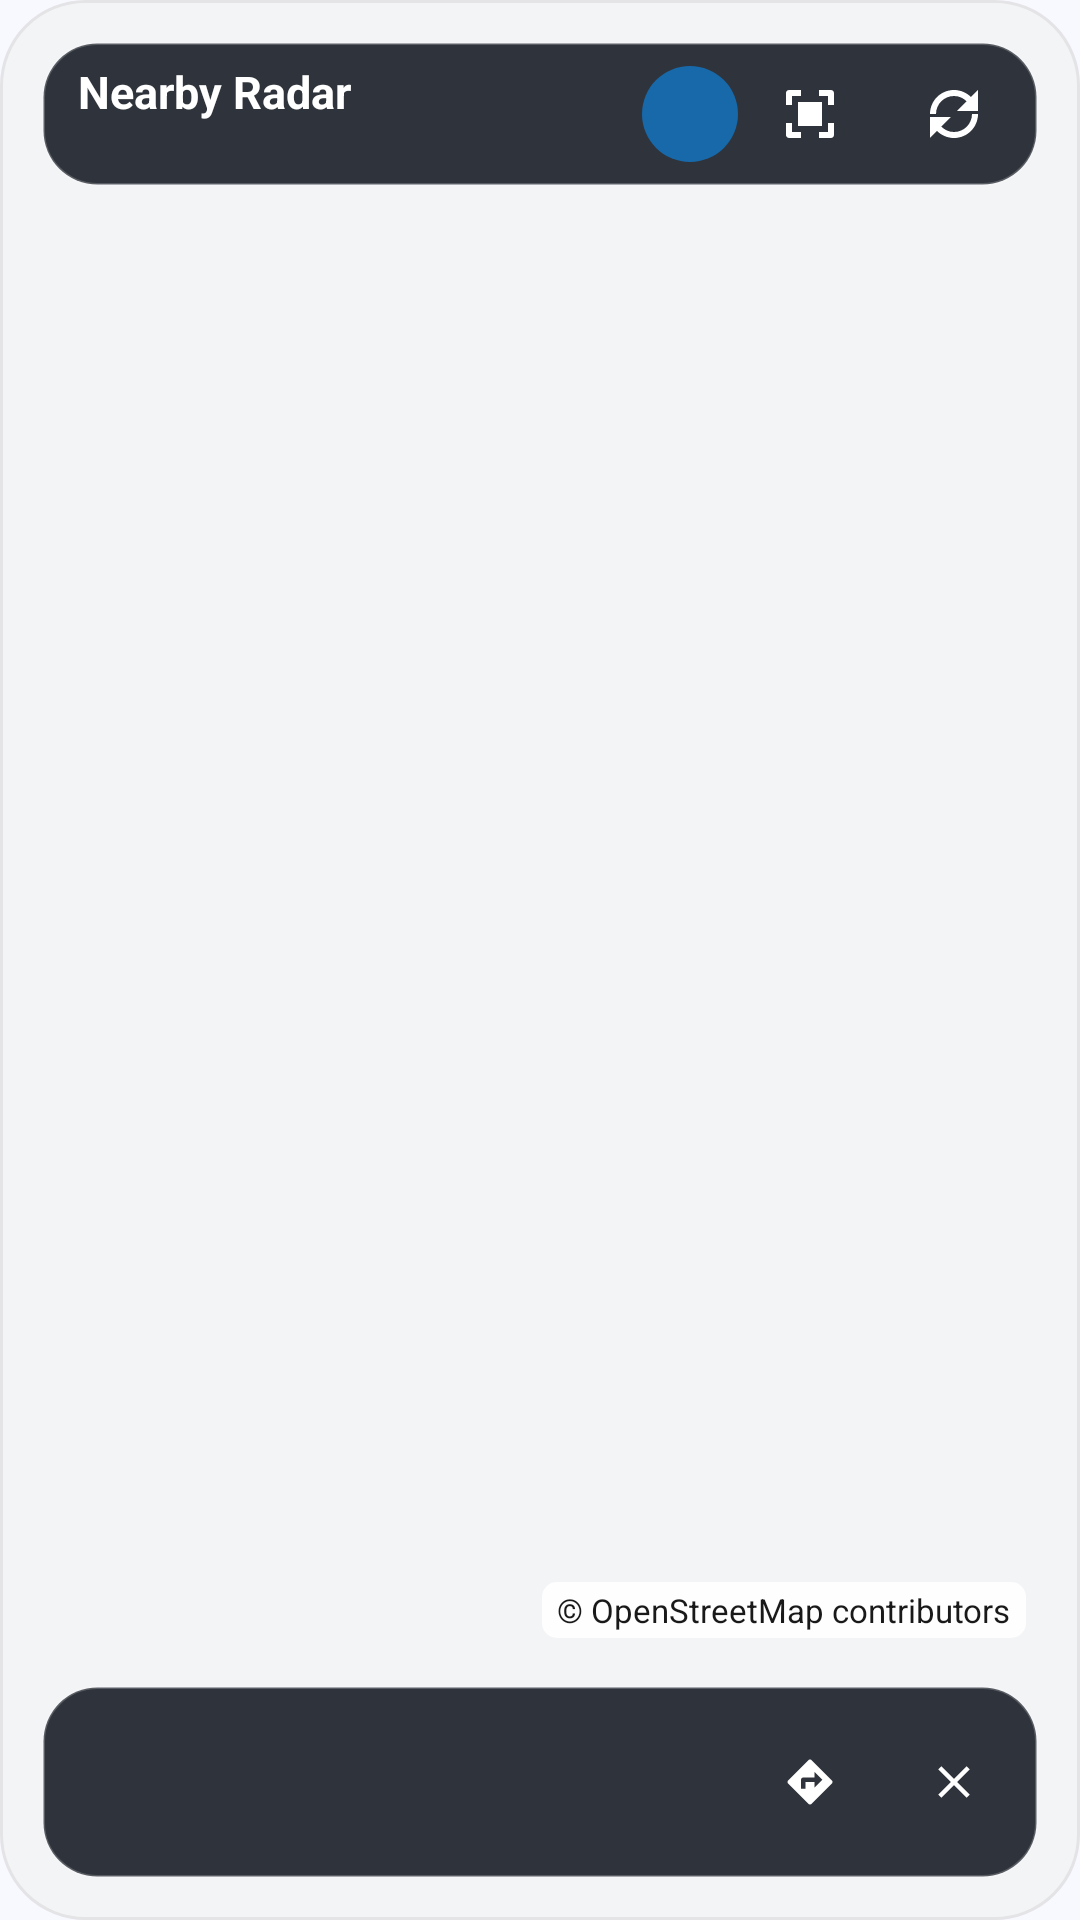

Where icons sit on this 1080px x 1920px app screen, as (x1, y1, x2, y2):
Dismiss alert: (938, 1766, 970, 1798)
Navigate to alert: (787, 1759, 833, 1805)
Refresh alerts: (882, 43, 1026, 185)
